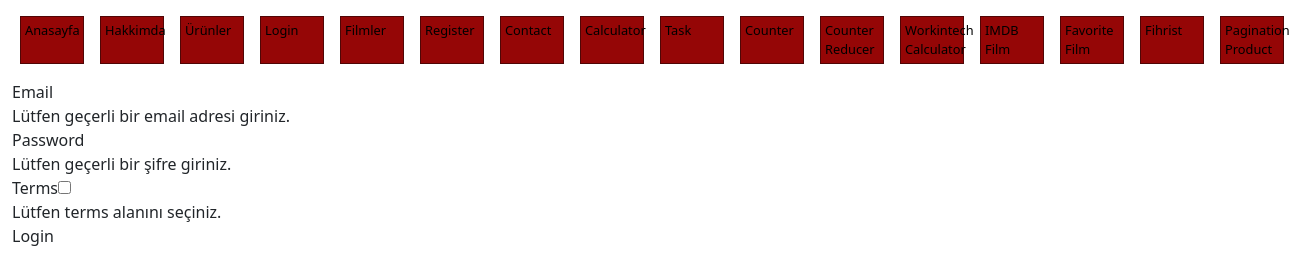
Login  page tests › Form success test
Type "ali@bas.com" into the field labelled "Email".
click(169, 92); type("ali@bas.com")  # box [53,80,284,104]
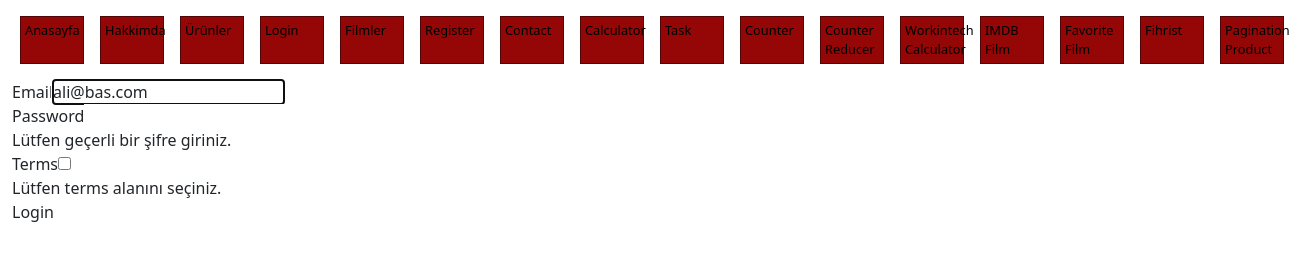
Type "123Qw*458*" into the password field labelled "Password".
click(200, 116); type("123Qw*458*")  # box [84,104,315,128]
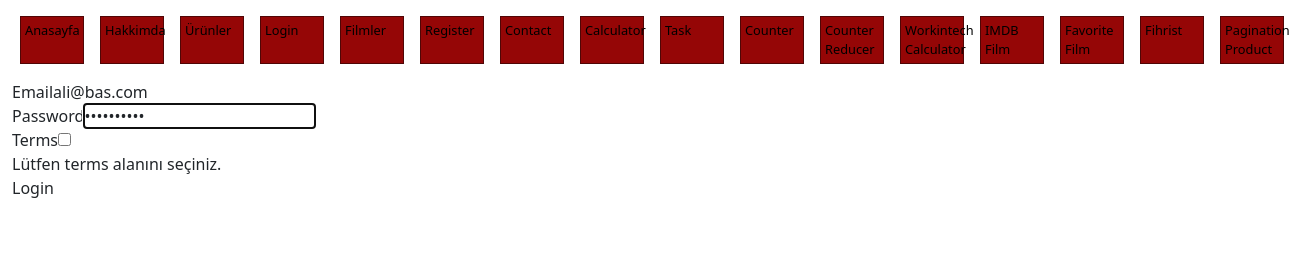
Check the checkbox labelled "Terms".
click(65, 140)  # box [58,133,71,146]
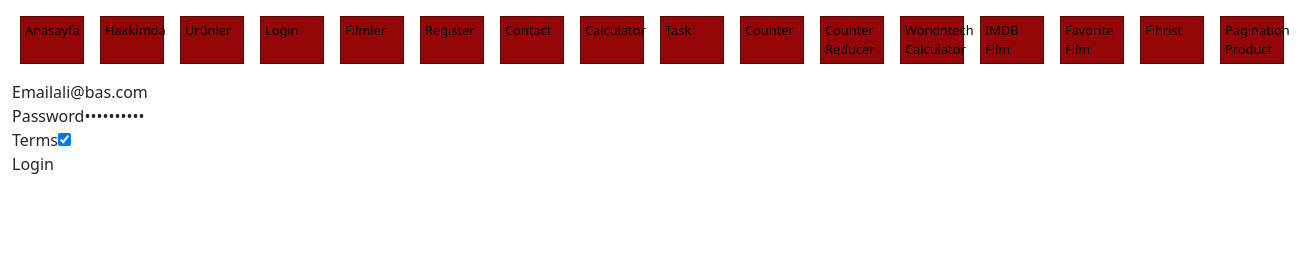
Check: the button "Login" is enabled, box [12,152,54,176]
